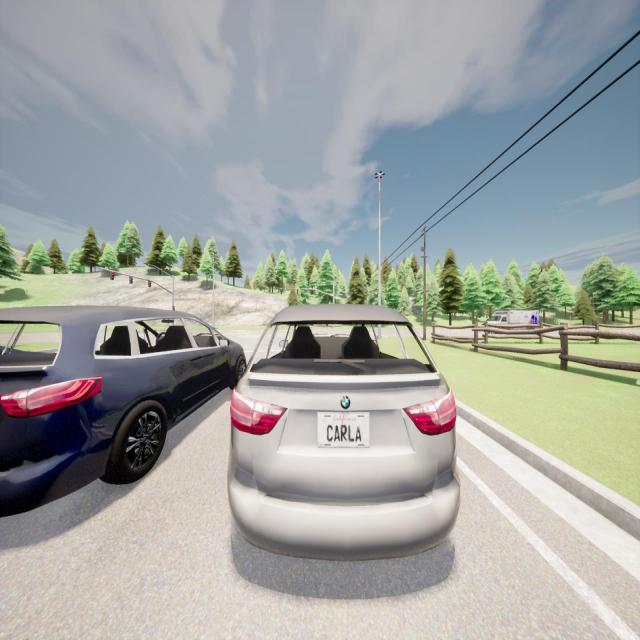Vehicle: (226, 304, 462, 560), (0, 307, 245, 516), (486, 310, 540, 334)
traffic_light: (111, 272, 114, 281), (130, 276, 133, 284), (148, 280, 151, 288), (296, 288, 299, 295), (311, 288, 313, 296), (280, 287, 282, 294)
